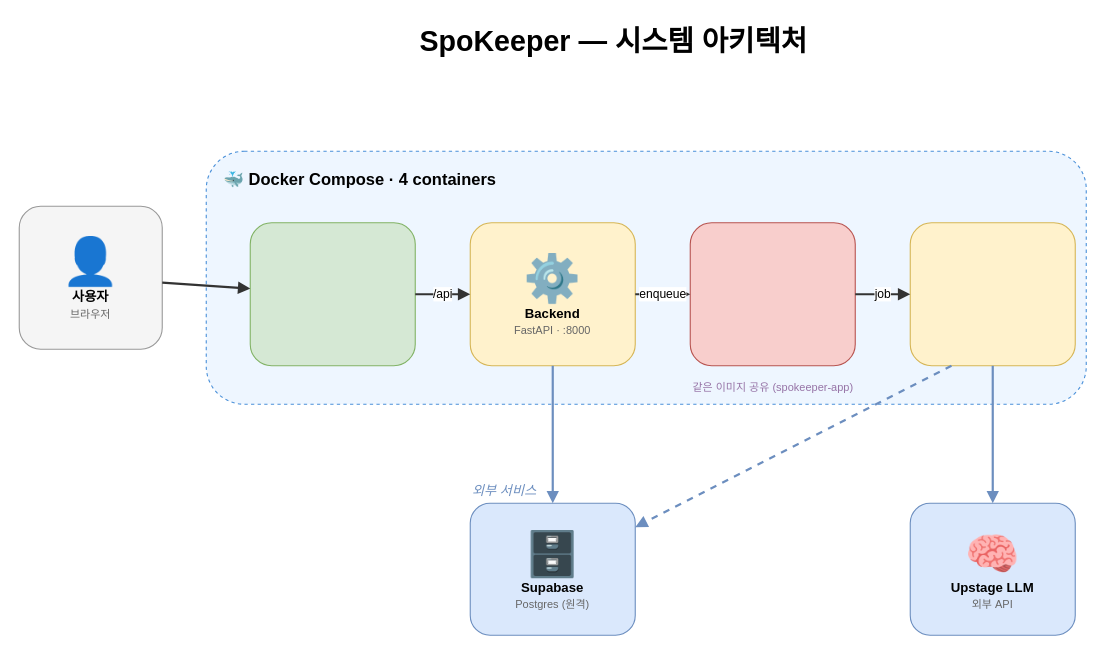
Image size: 1106x655. Some labels were removed from this diagram. The centre of each missing label's shape, as x and y in pixels:
"📨 Redis 큐 & 진행률" goes at (x=772, y=294).
"🖥️ Frontend React (Vite) · :4173" goes at (x=332, y=294).
"🤖 Agent 분석 워커 (RQ)" goes at (x=992, y=294).
